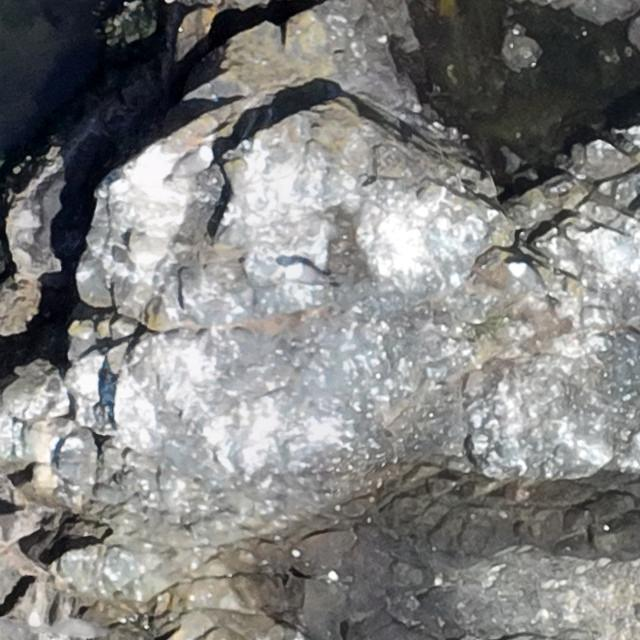umineko: (165, 145, 214, 182), (289, 264, 325, 284)
